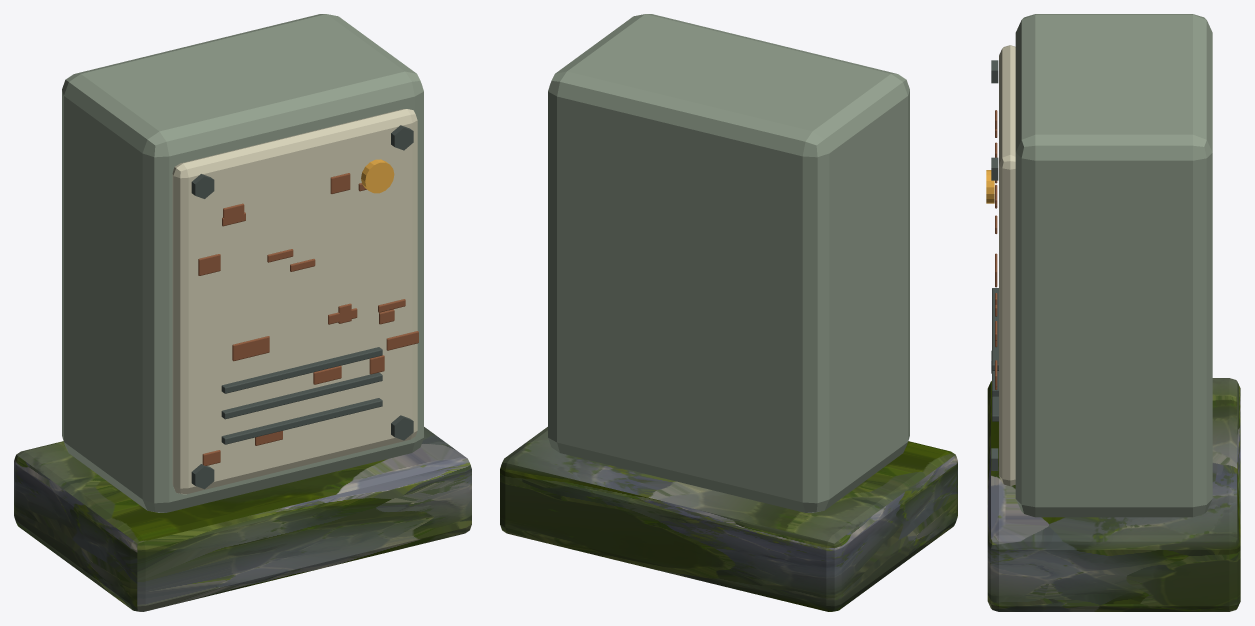
Rendered from Power_Cabinet_Barren.glb.
3 views of the same model, side by side, from view 1: azimuth 30°, elevation 25°; view 2: azimuth 150°, elevation 25°; view 3: azimuth 270°, elevation 25° (orthographic).
Visible parts, largest first — view 1: Structure; view 2: Structure; view 3: Structure.
Part boxes in pixels (x1,y1,x2,y2): Structure: [14, 14, 471, 611]; Structure: [500, 14, 957, 611]; Structure: [986, 14, 1240, 611].
Size of the model in its own units: 1.4 by 1.8 by 0.905.
6 materials, 1 textured.
